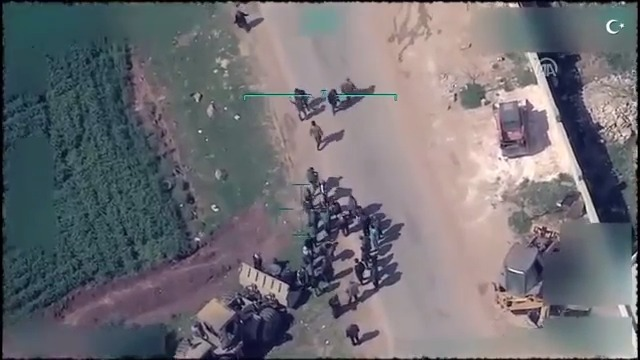insan: (308, 116, 329, 152), (341, 318, 365, 347), (344, 275, 364, 307), (232, 8, 255, 34), (328, 292, 345, 319)
